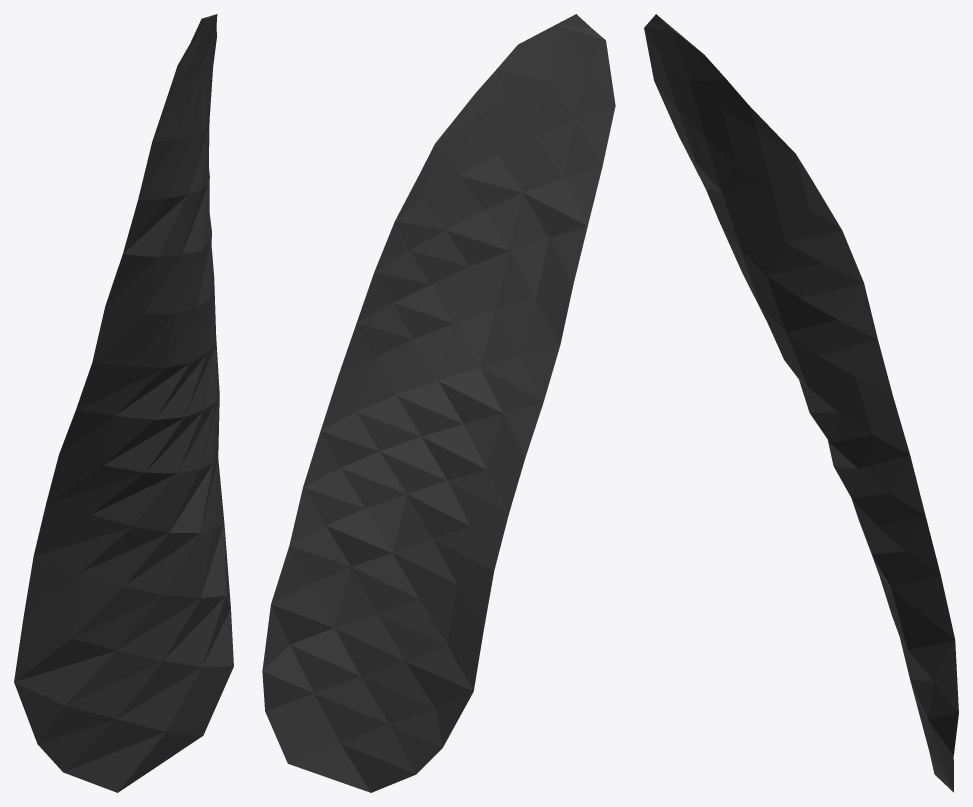
File: tibial_crest_e.glb
The picture shows the model from 3 angles, left to right: view 1: azimuth 30°, elevation 25°; view 2: azimuth 150°, elevation 25°; view 3: azimuth 270°, elevation 25°; orthographic projection. The views are drawn at different scales.
Visible parts, largest first — view 1: tibial_crest_e; view 2: tibial_crest_e; view 3: tibial_crest_e.
Part boxes in pixels (<box>): tibial_crest_e: <box>14,14,233,792</box>; tibial_crest_e: <box>262,14,615,792</box>; tibial_crest_e: <box>644,14,958,792</box>.
Size of the model in its own units: 0.000796 by 0.00257 by 0.00101.
1 material, 1 textured.
